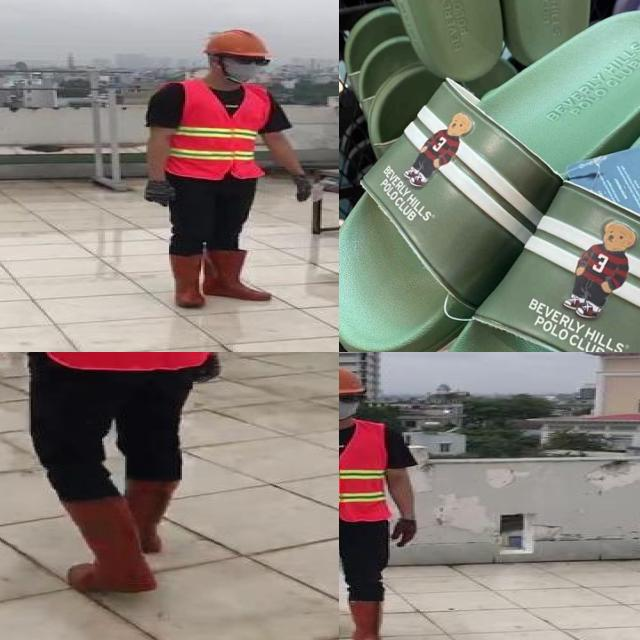Sandals: (339, 0, 640, 352)
boots: (58, 499, 157, 595), (128, 475, 186, 554), (203, 248, 270, 299), (169, 251, 205, 312), (349, 599, 395, 640)
face_mask: (221, 52, 273, 82), (339, 389, 360, 420)
glasses: (231, 52, 274, 68), (339, 387, 364, 405)
hand_glove: (141, 178, 176, 208), (284, 172, 314, 203), (191, 359, 221, 388), (392, 519, 420, 549)
head_helmet: (199, 28, 272, 60), (339, 366, 373, 397)
person: (0, 352, 255, 597), (137, 26, 329, 315), (339, 362, 425, 640)
vest: (165, 78, 267, 180), (339, 421, 391, 522)
